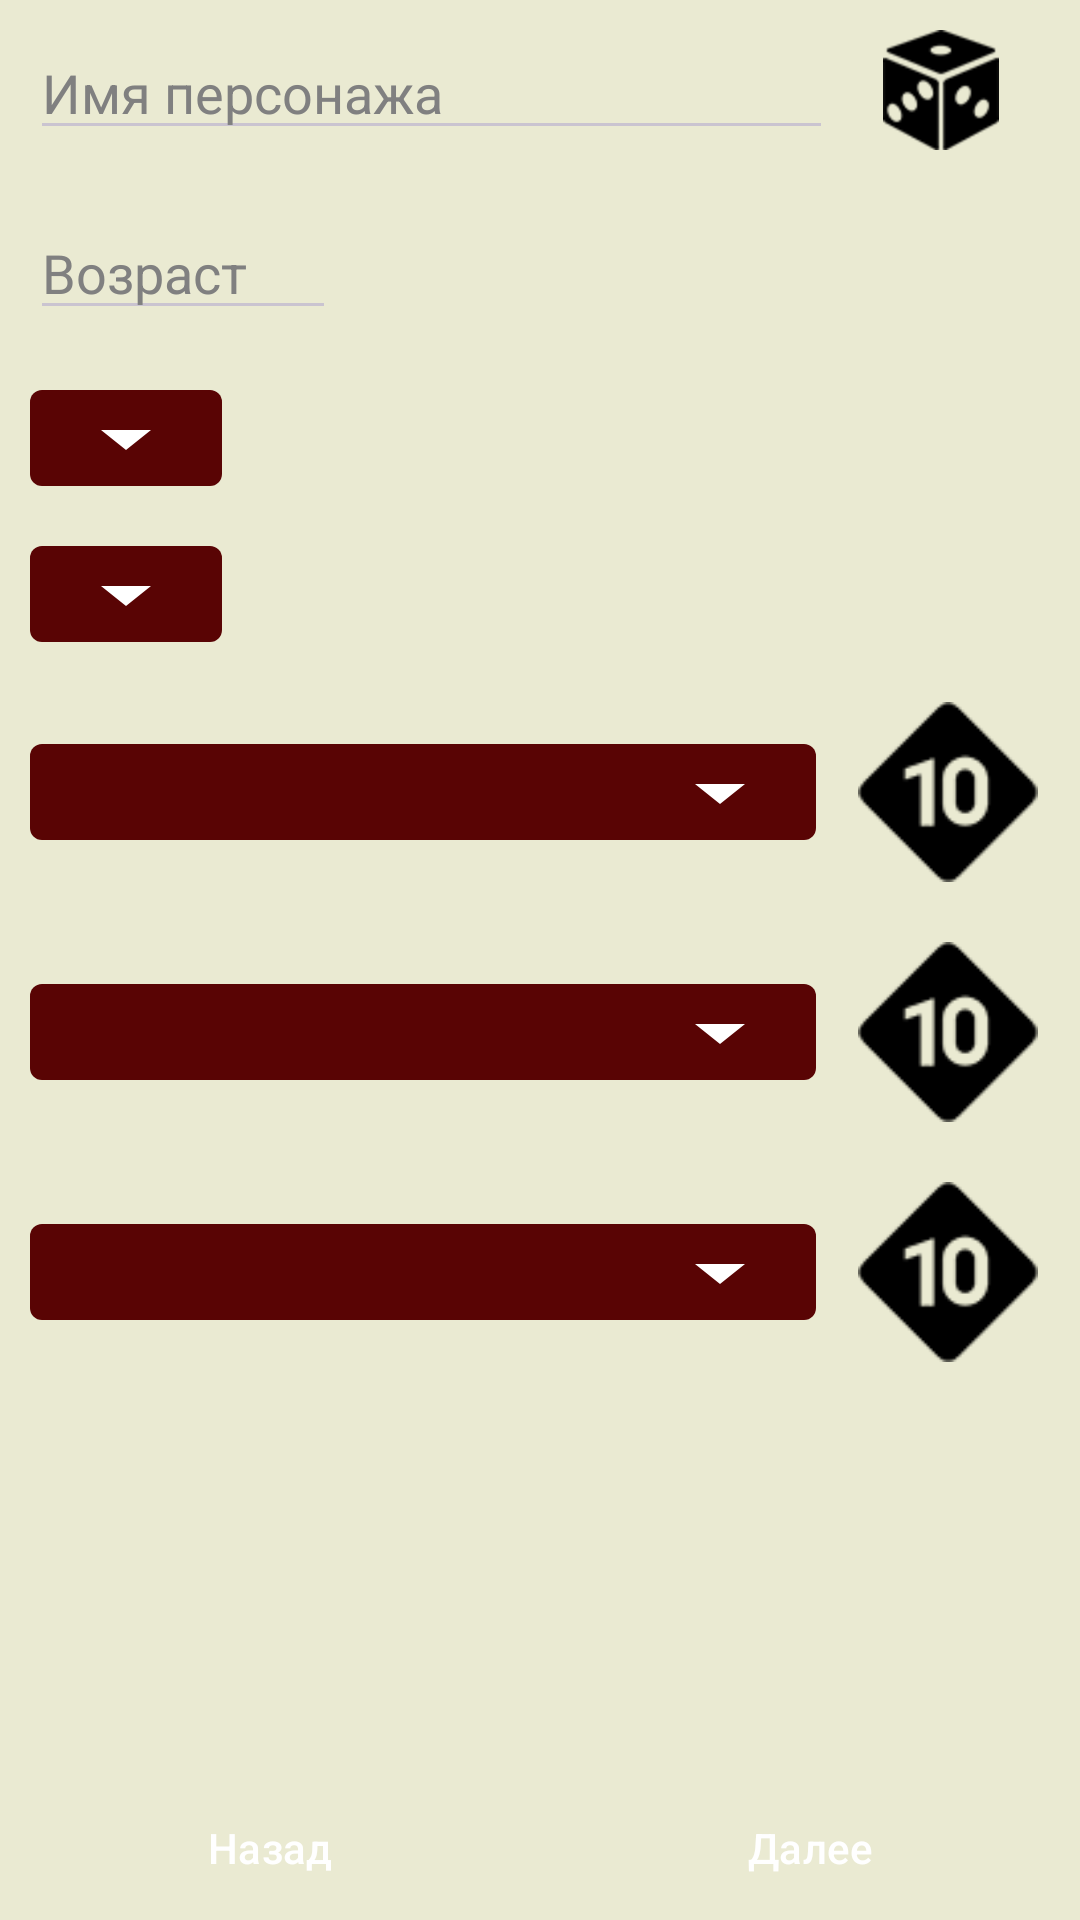

Locate icon controls on the screen. Image size 1080x1920, boxes as BBox(x1, y1, x2, y2).
random: BBox(883, 30, 999, 150)
